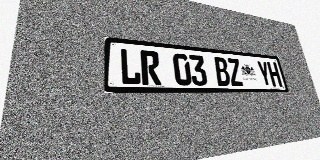0: (172, 53, 192, 86)
3: (188, 54, 208, 86)
B: (213, 57, 231, 86)
H: (266, 62, 282, 87)
L: (119, 48, 141, 85)
R: (140, 50, 161, 85)
Y: (256, 61, 273, 87)
Z: (226, 58, 244, 86)
